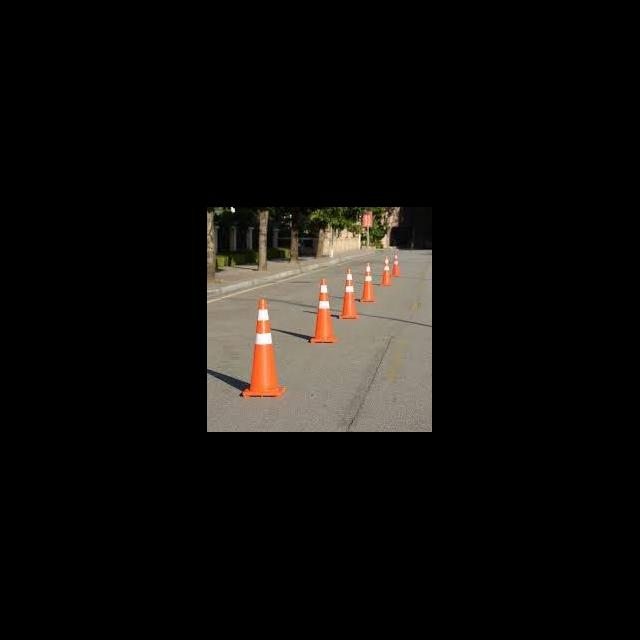Safety Cone: (240, 299, 287, 399), (309, 279, 338, 342), (342, 269, 359, 320), (362, 261, 378, 302), (381, 255, 394, 288), (391, 250, 402, 278)
